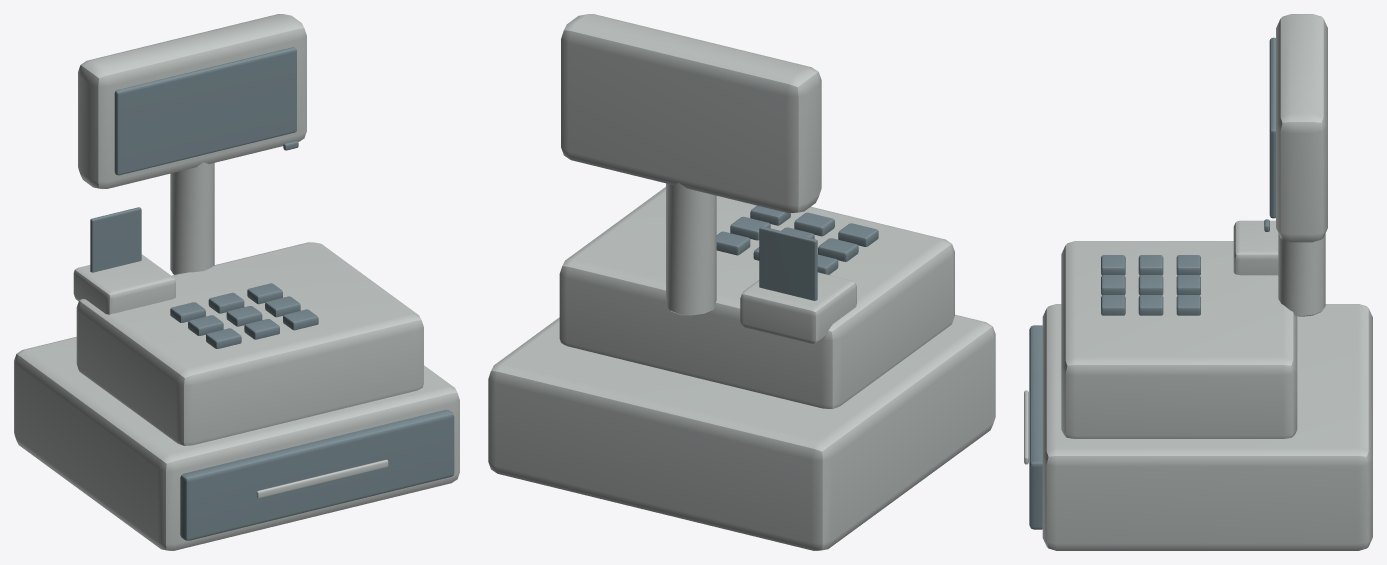
The model's file is cash-register.glb.
3 renders of one model, left to right at view 1: azimuth 30°, elevation 25°; view 2: azimuth 150°, elevation 25°; view 3: azimuth 270°, elevation 25°, orthographic. The views are drawn at different scales.
Visible parts, largest first — view 1: keypad_console, cash_drawer, drawer_front, register_display_screen, register_display_housing, display_stem, receipt_printer, receipt, cash_slot, register_key.008, register_key.005, register_key.002 (+6 smaller); view 2: cash_drawer, keypad_console, register_display_housing, display_stem, receipt_printer, receipt, register_key.002, register_key.005, register_key.001, register_key.006, register_key.007; view 3: cash_drawer, keypad_console, register_display_housing, display_stem, drawer_front, receipt_printer, register_display_screen, register_key.007, register_key.008, register_key.006, register_key.001, register_key.004 (+4 smaller).
Boxes of the visible parts, box(x1,y1,x2,y2) form: keypad_console: box(76, 242, 423, 445); cash_drawer: box(14, 337, 459, 550); drawer_front: box(180, 409, 454, 540); register_display_screen: box(114, 47, 296, 175); register_display_housing: box(78, 14, 306, 189); display_stem: box(170, 162, 214, 274); receipt_printer: box(73, 254, 175, 314); receipt: box(90, 207, 141, 272); cash_slot: box(256, 459, 388, 498); register_key.008: box(283, 309, 318, 330); register_key.005: box(244, 319, 279, 339); register_key.002: box(206, 328, 241, 348); cash_drawer: box(488, 314, 995, 550); keypad_console: box(559, 187, 954, 408); register_display_housing: box(561, 14, 821, 213); display_stem: box(666, 182, 716, 316); receipt_printer: box(740, 272, 856, 343); receipt: box(759, 226, 817, 300); register_key.002: box(838, 223, 878, 246); register_key.005: box(794, 212, 834, 236); register_key.001: box(818, 238, 858, 261); register_key.006: box(716, 231, 750, 255); register_key.007: box(730, 216, 770, 240); cash_drawer: box(1042, 304, 1372, 550); keypad_console: box(1061, 241, 1297, 438); register_display_housing: box(1276, 14, 1327, 242); display_stem: box(1278, 233, 1325, 316); drawer_front: box(1029, 325, 1042, 529); receipt_printer: box(1233, 220, 1278, 275); register_display_screen: box(1269, 37, 1275, 218); register_key.007: box(1138, 295, 1163, 315); register_key.008: box(1101, 295, 1125, 315); register_key.006: box(1176, 295, 1200, 315); register_key.001: box(1138, 255, 1163, 275); register_key.004: box(1138, 275, 1163, 295).
Size of the model in its own units: 0.39 by 0.485 by 0.3695.
